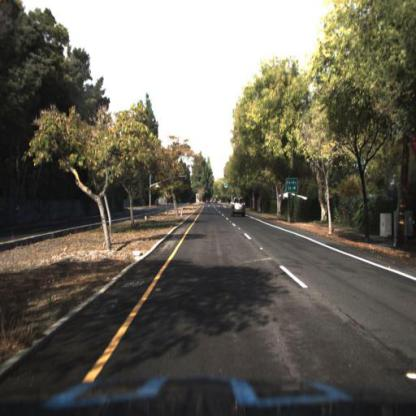car: (232, 196, 248, 219)
